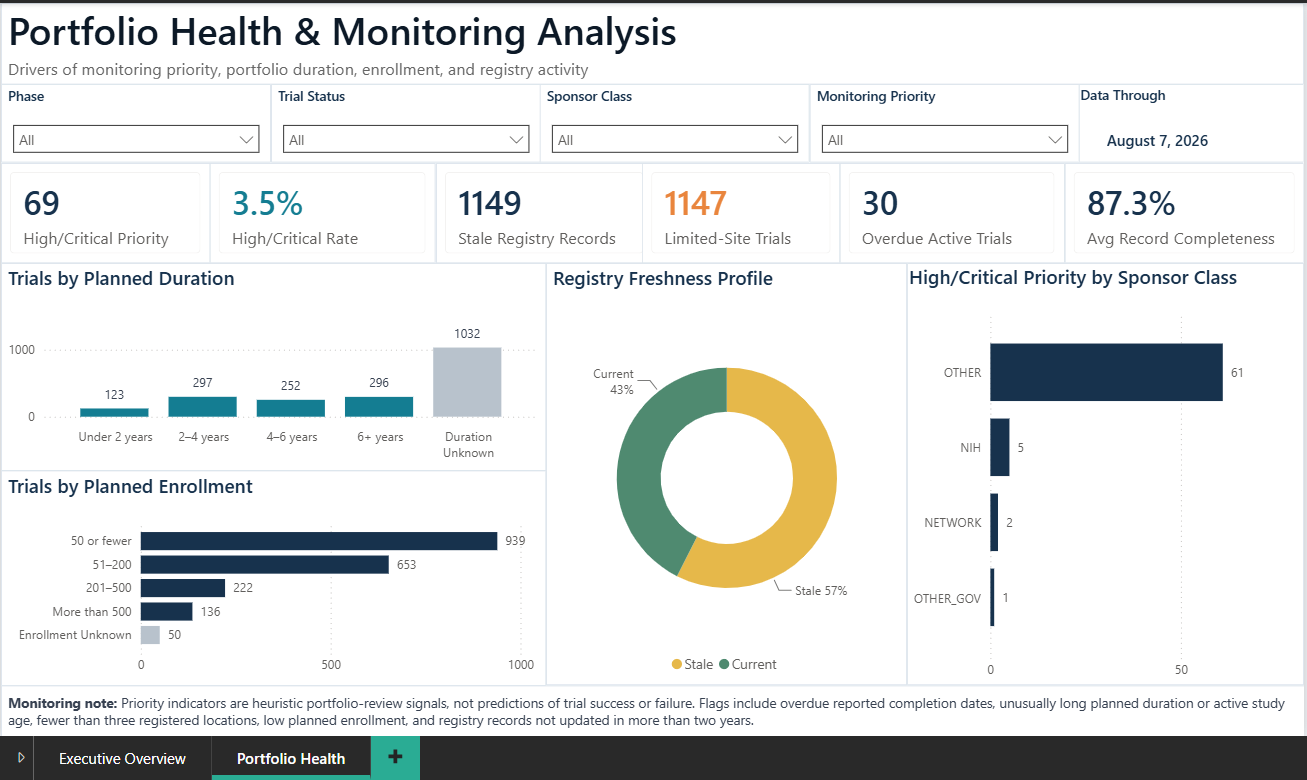

The dashboard page shown, as its layout file describes it:
{"tool":"powerbi","page":{"name":"Portfolio Health","canvas":[1280,720],"ordinal":1},"visuals":[{"type":"cardVisual","fields":{"Data":["_Measures.High Priority Trials"]},"box":[0,156.6,205.2,98.2],"z":0},{"type":"cardVisual","fields":{"Data":["_Measures.High Priority Rate"]},"box":[205.2,156.6,221.8,98.2],"z":1000},{"type":"cardVisual","fields":{"Data":["_Measures.Stale Registry Records"]},"box":[427,156.6,213,98.2],"z":2000},{"type":"cardVisual","fields":{"Data":["_Measures.Limited-Site Trials"]},"box":[629.3,156.6,194.5,98.2],"z":3000},{"type":"cardVisual","fields":{"Data":["_Measures.Overdue Active Trials"]},"box":[823.3,157.1,220.9,98.2],"z":4000},{"type":"cardVisual","fields":{"Data":["_Measures.Average Record Completeness"]},"box":[1044.2,157.1,235.6,98.2],"z":5000},{"type":"clusteredColumnChart","title":"Trials by Planned Duration","fields":{"Category":["Trials.duration_band"],"Y":["_Measures.Total Trials"]},"box":[0,255.2,535,203.7],"z":6000},{"type":"clusteredBarChart","title":"Trials by Planned Enrollment","fields":{"Category":["Trials.enrollment_band"],"Y":["_Measures.Total Trials"]},"box":[0,458.9,535,211],"z":7000},{"type":"donutChart","title":"Registry Freshness Profile","fields":{"Category":["Trials.Registry Freshness"],"Y":["_Measures.Total Trials"]},"box":[535,255.2,354.6,414.7],"z":8000},{"type":"clusteredBarChart","title":"High/Critical Priority by Sponsor Class","fields":{"Category":["Trials.sponsor_class"],"Y":["_Measures.High Priority Trials"]},"box":[889.6,255.2,390.2,414.7],"z":9000},{"type":"slicer","title":"Phase","fields":{"Values":["Trials.phase_clean"]},"box":[0,79.8,265,76.8],"z":10000},{"type":"slicer","title":"Trial Status","fields":{"Values":["Trials.status"]},"box":[264.6,79.8,265,76.8],"z":11000},{"type":"slicer","title":"Sponsor Class","fields":{"Values":["Trials.sponsor_class"]},"box":[529.1,79.8,265,76.8],"z":12000},{"type":"cardVisual","title":"Data Through","fields":{"Data":["_Measures.Latest Registry Update"]},"box":[1058.2,79.8,221.8,76.8],"z":13000},{"type":"textbox","title":"Portfolio Health & Monitoring Analysis","box":[0,0,1280,79.8],"z":14000},{"type":"textbox","box":[0,669.9,1281,50.3],"z":15000},{"type":"slicer","title":"Monitoring Priority","fields":{"Values":["Trials.risk_category"]},"box":[793.7,79.8,265,76.8],"z":16000}]}

Visuals, with their boxes on the page's 1280x720 design canvas (x1, y1, x2, y2). These are canvas units, not pixel positions in the 1307x780 screenshot, which may show the page scaled, cropped or inside an application window:
cardVisual - _Measures.High Priority Trials: crop(0, 157, 205, 255)
cardVisual - _Measures.High Priority Rate: crop(205, 157, 427, 255)
cardVisual - _Measures.Stale Registry Records: crop(427, 157, 640, 255)
cardVisual - _Measures.Limited-Site Trials: crop(629, 157, 824, 255)
cardVisual - _Measures.Overdue Active Trials: crop(823, 157, 1044, 255)
cardVisual - _Measures.Average Record Completeness: crop(1044, 157, 1280, 255)
"Trials by Planned Duration" clusteredColumnChart: crop(0, 255, 535, 459)
"Trials by Planned Enrollment" clusteredBarChart: crop(0, 459, 535, 670)
"Registry Freshness Profile" donutChart: crop(535, 255, 890, 670)
"High/Critical Priority by Sponsor Class" clusteredBarChart: crop(890, 255, 1280, 670)
"Phase" slicer: crop(0, 80, 265, 157)
"Trial Status" slicer: crop(265, 80, 530, 157)
"Sponsor Class" slicer: crop(529, 80, 794, 157)
"Data Through" cardVisual: crop(1058, 80, 1280, 157)
"Portfolio Health & Monitoring Analysis" textbox: crop(0, 0, 1280, 80)
textbox: crop(0, 670, 1281, 720)
"Monitoring Priority" slicer: crop(794, 80, 1059, 157)
